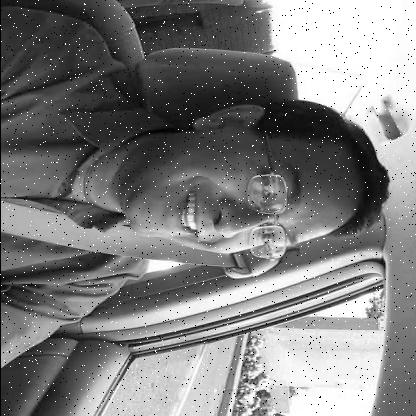seatbelt: (0, 89, 382, 311)
